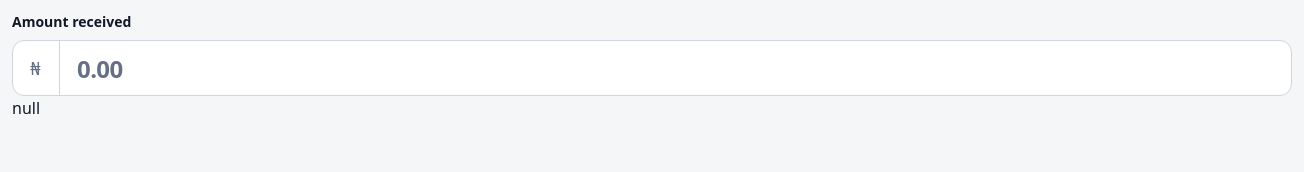
Scenario: MoneyInput › shows an inline error for 12abc and keeps the text as typed
In the field labelled "Amount received": (652, 68) [12, 40, 1292, 96], type "12abc"
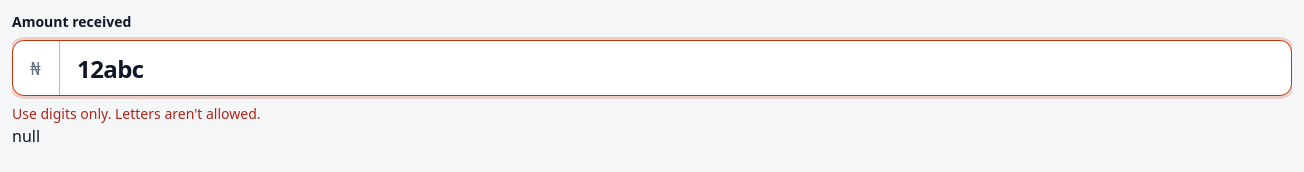
Check: the text with test id "kobo" reads "null", box [12, 125, 40, 147]
Check: the message reads "Use digits only. Letters aren't allowed.", box [12, 104, 260, 123]
